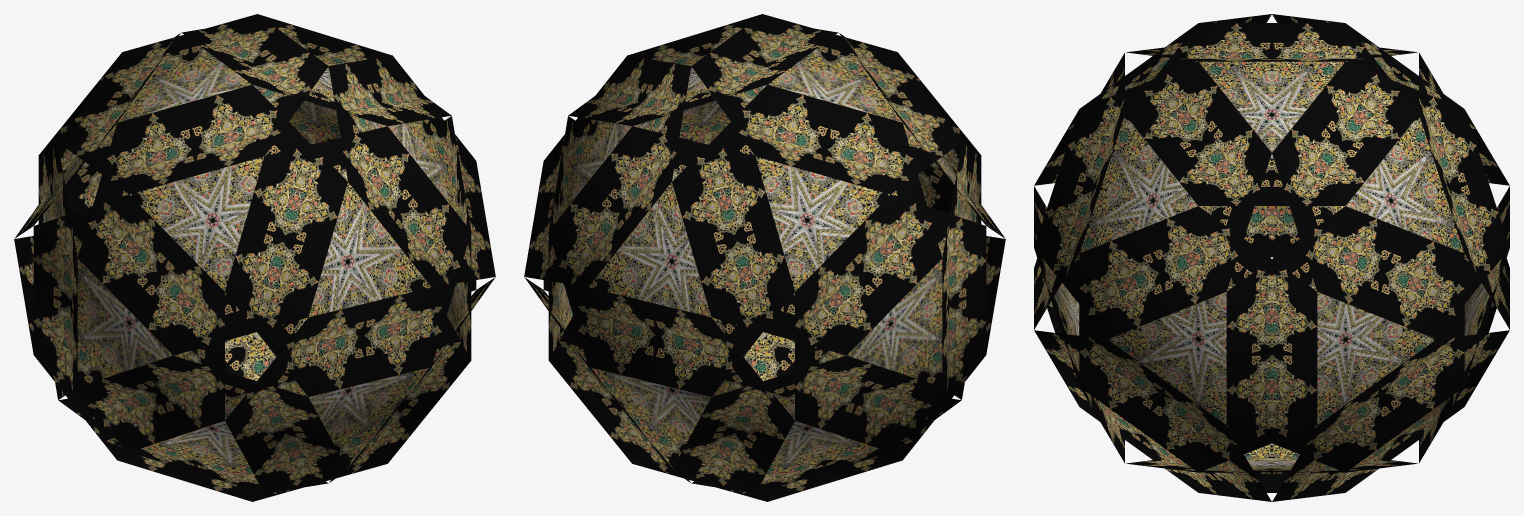
Rendered from SmallIcosicosidodecahedron5.gltf.
The picture shows the model from 3 angles, left to right: view 1: azimuth 30°, elevation 25°; view 2: azimuth 150°, elevation 25°; view 3: azimuth 270°, elevation 25°; orthographic projection. The views are drawn at different scales.
Parts seen in each view (by area): view 1: SmallIcosicosidodecahedron; view 2: SmallIcosicosidodecahedron; view 3: SmallIcosicosidodecahedron.
Part boxes in pixels (bbox=[...]): SmallIcosicosidodecahedron: bbox=[14, 14, 495, 501]; SmallIcosicosidodecahedron: bbox=[524, 14, 1005, 501]; SmallIcosicosidodecahedron: bbox=[1034, 14, 1509, 501].
Bounding box in the file's own units: 3.24 × 3.24 × 3.24.
1 material, 1 textured.
